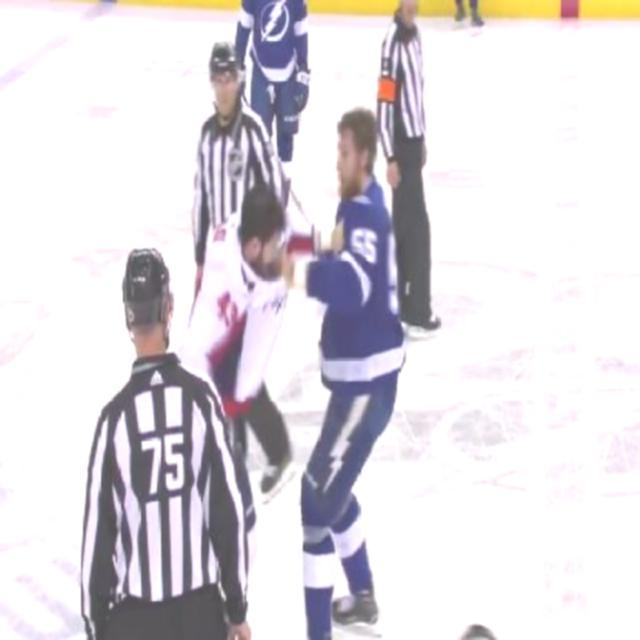fight: (190, 103, 404, 552)
non-fight: (76, 248, 250, 640)
